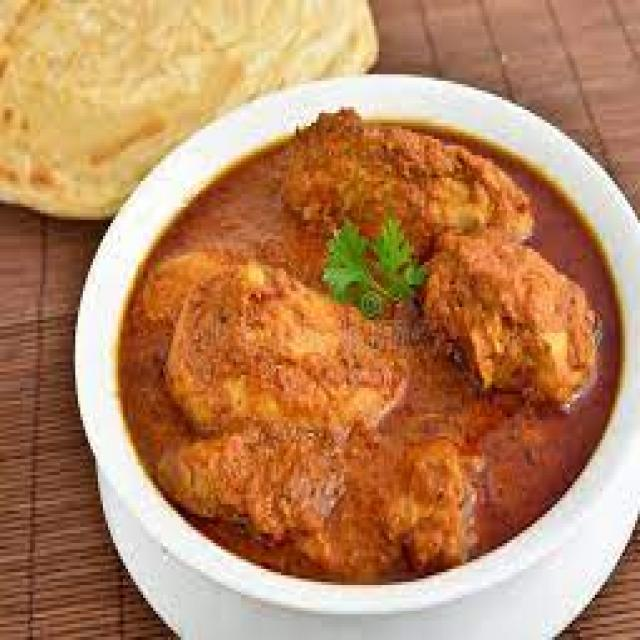Chicken Curry: (143, 94, 620, 578)
